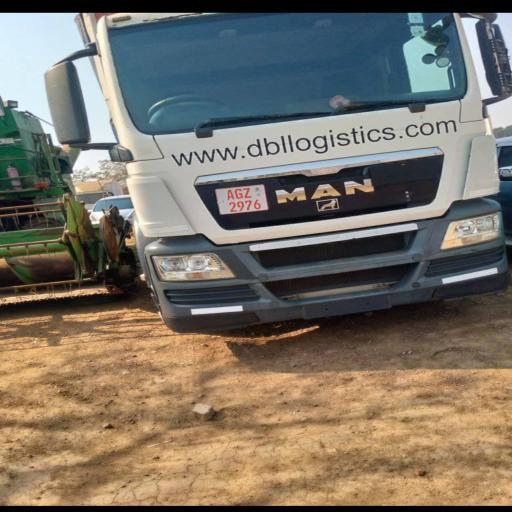number-plates: (210, 185, 276, 214)
